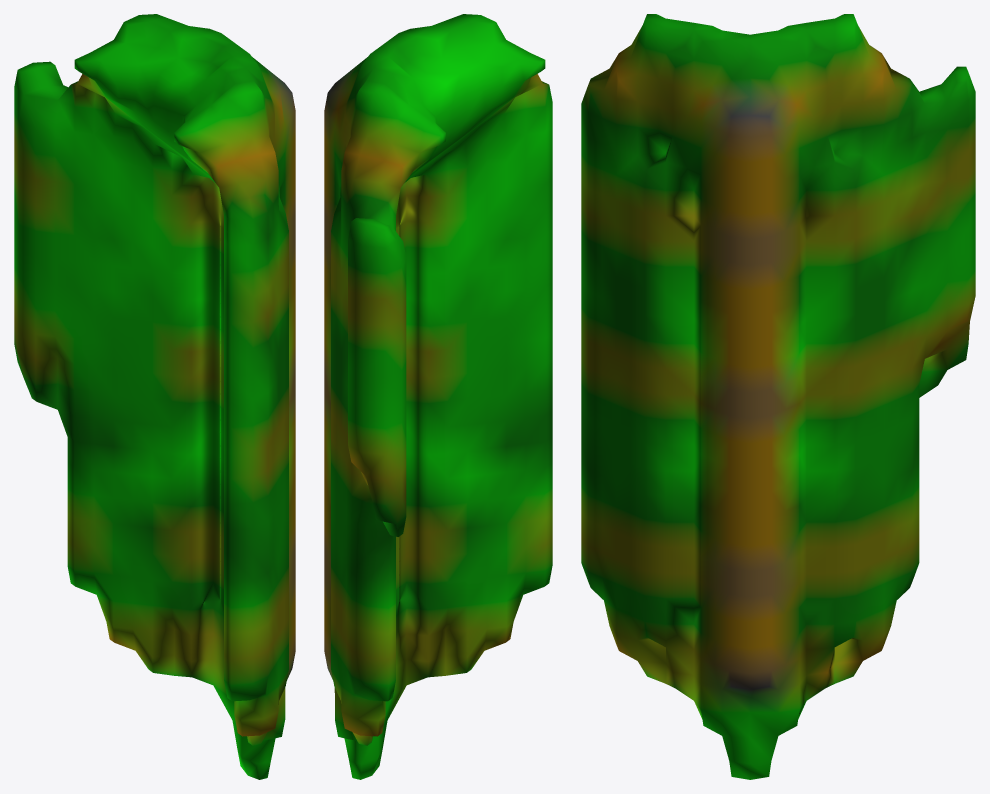
The picture shows the model from 3 angles, left to right: view 1: azimuth 30°, elevation 25°; view 2: azimuth 150°, elevation 25°; view 3: azimuth 270°, elevation 25°; orthographic projection.
Size of the model in its own units: 0.35 by 1.43 by 0.7.
